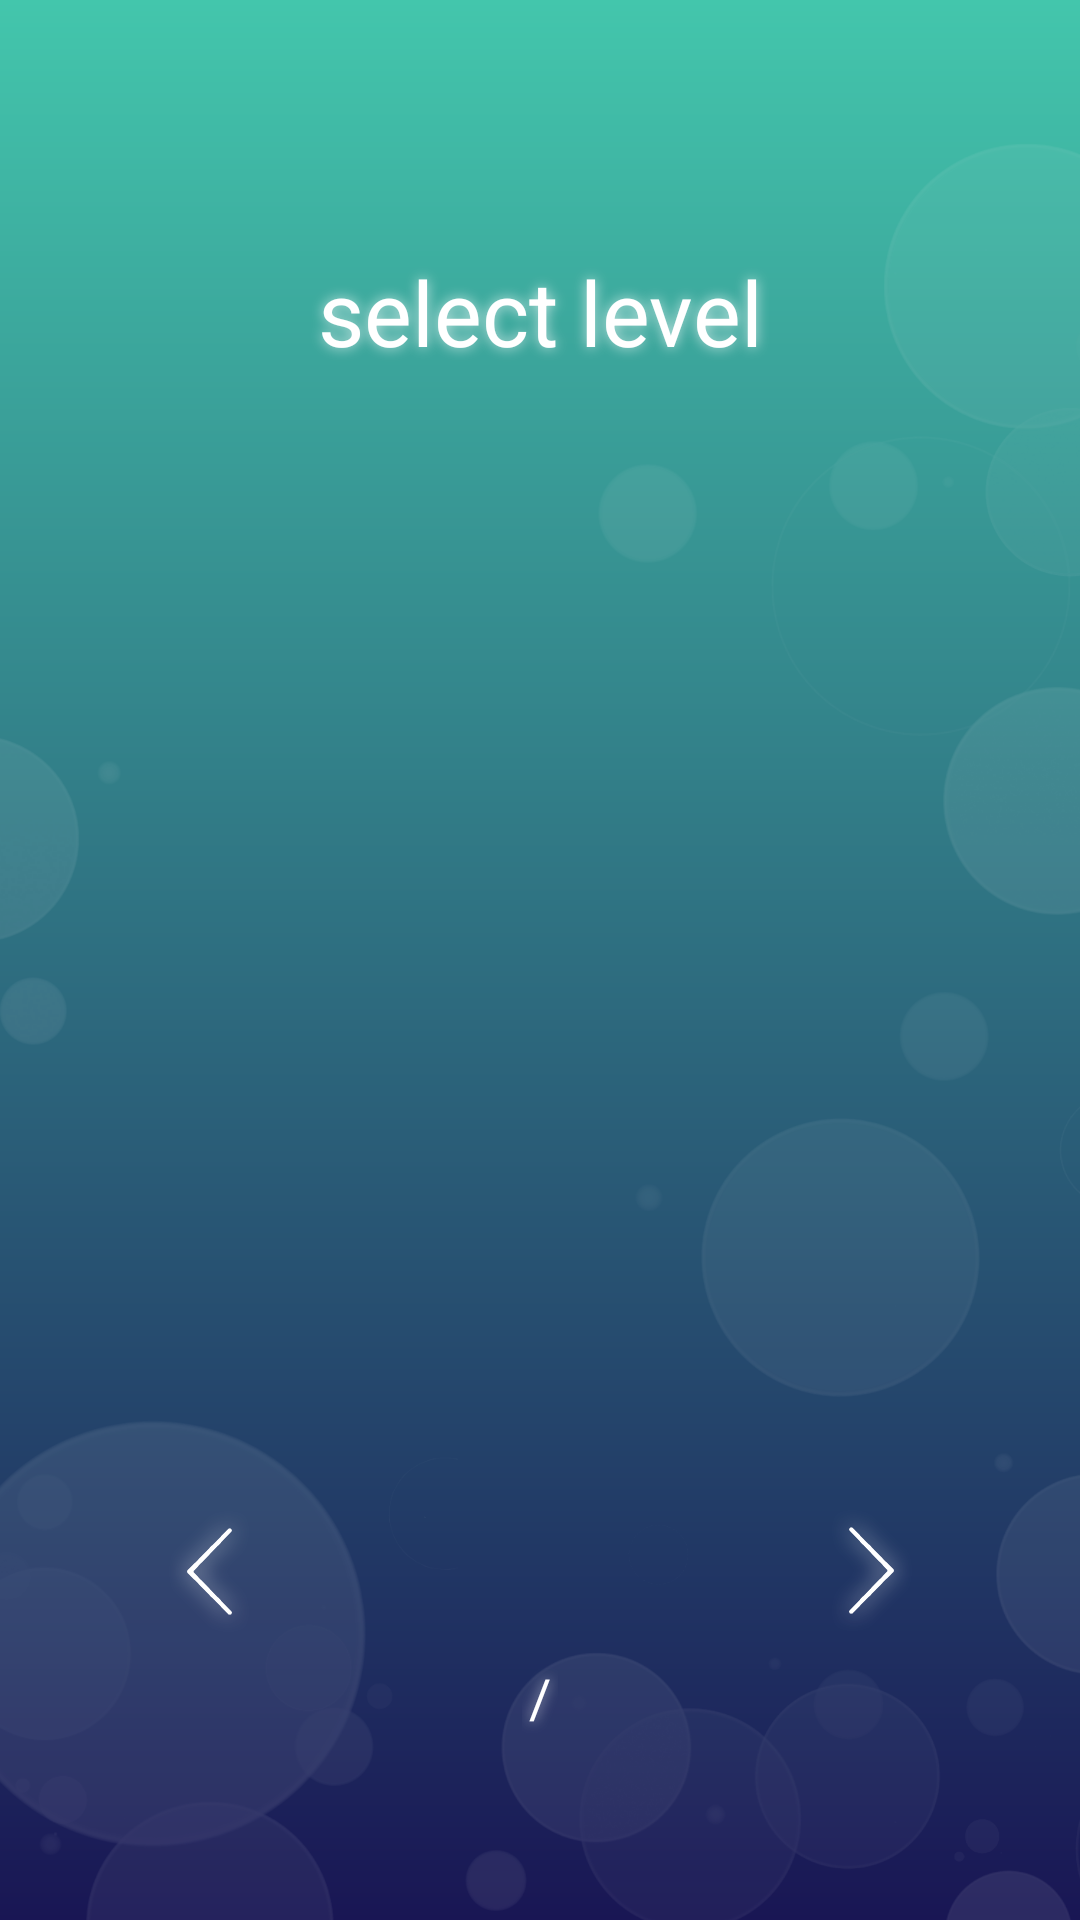

Icon click points for this 1080px×1920px phone screenshot, format (x,y):
arrow left: (209,1571)
arrow right: (872,1570)
